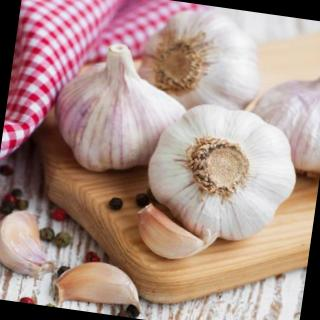Bawang Putih: (140, 98, 304, 253), (47, 61, 192, 185), (134, 2, 273, 122), (53, 256, 147, 315), (130, 201, 214, 265), (1, 206, 64, 282)
